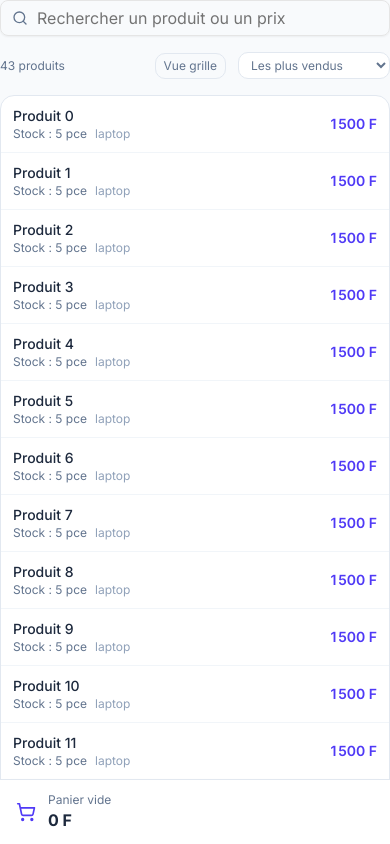
Scenario: POS — la caisse est atteignable sans défiler le catalogue › la barre ouvre le panier, qui contient le bouton Encaisser
The image size is (390, 844).
Click the text "Produit 0".
click(43, 116)  # box [13,107,74,124]
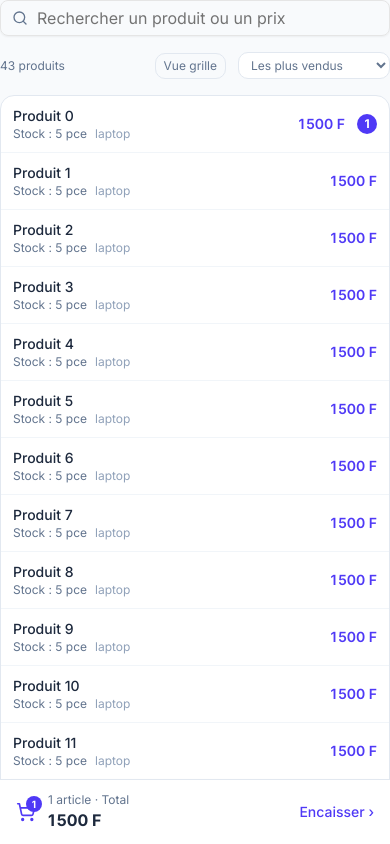
Check: the button with aria-label "Ouvrir le panier" is shown
Click the button with aria-label "Ouvrir le panier".
click(89, 800)  # box [0,779,389,843]
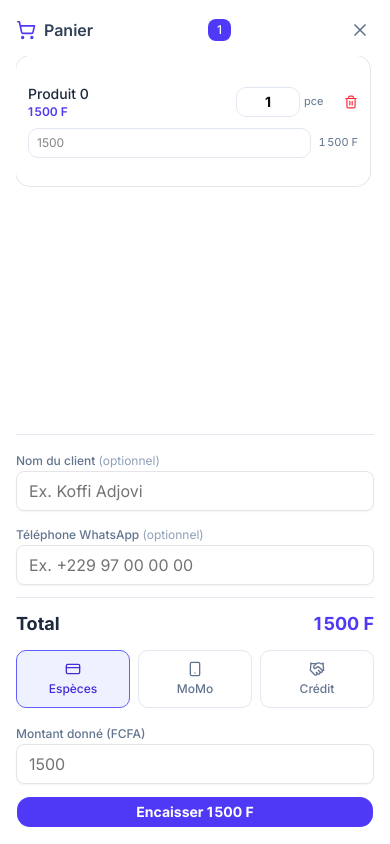
Check: the button "Encaisser 1 500 F" is shown, box [16,796,374,828]
